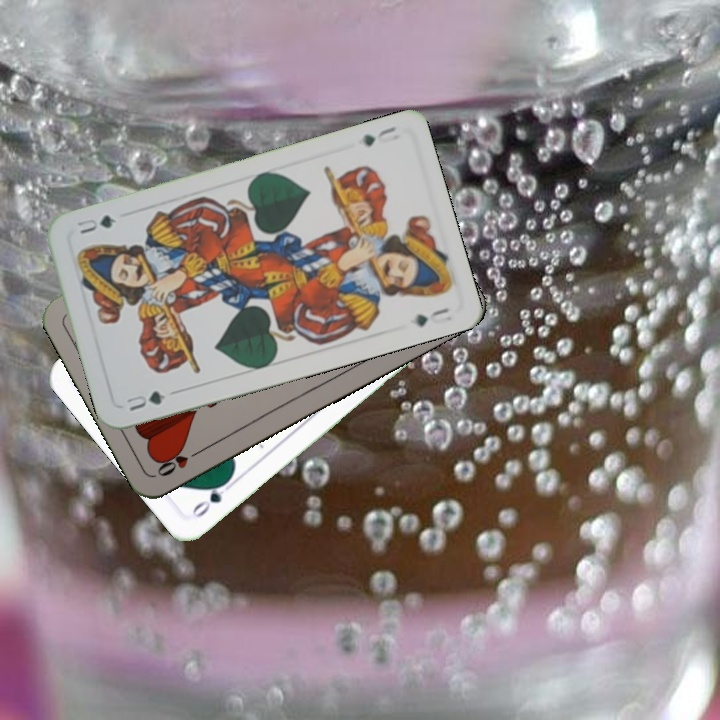GO: (187, 474, 237, 521)
GU: (122, 386, 168, 414), (358, 122, 401, 150)
HO: (153, 444, 207, 480)
